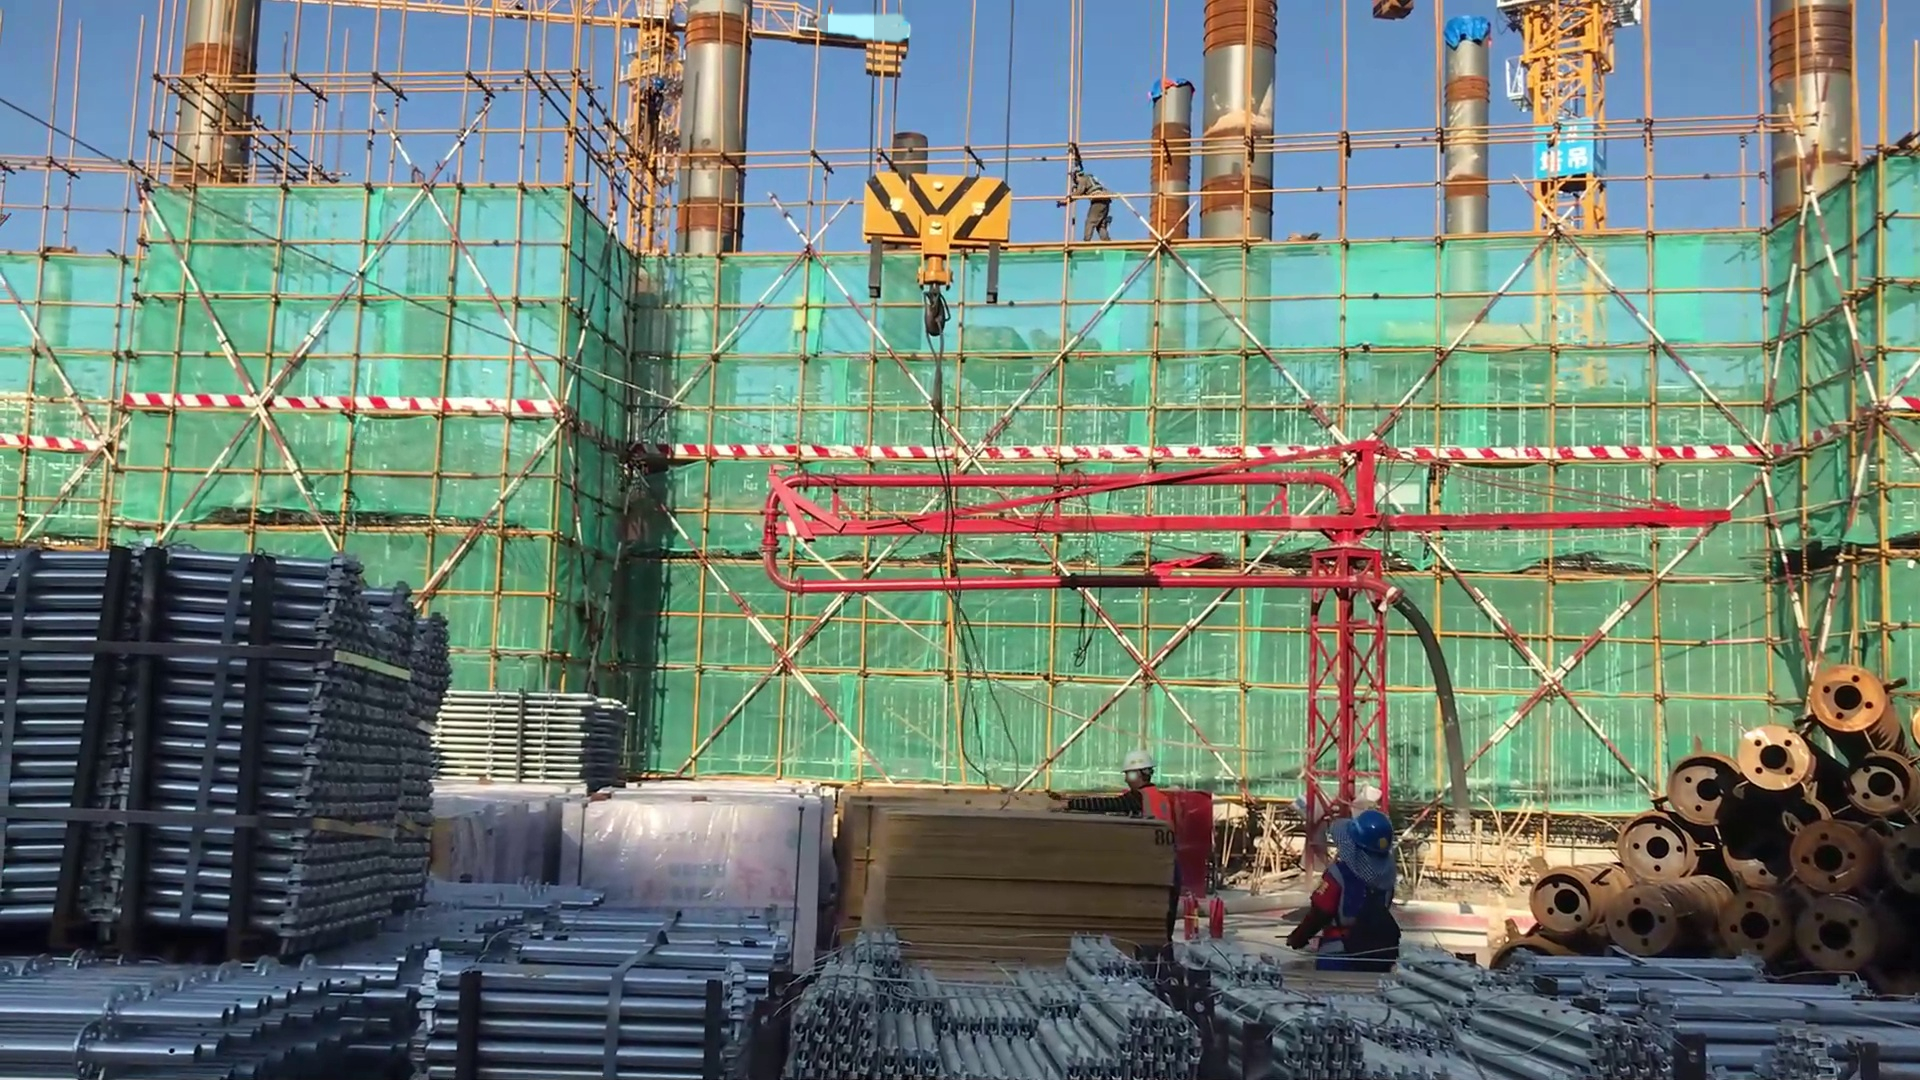board: (840, 779, 1172, 968)
helmet: (1337, 804, 1402, 859), (1115, 753, 1159, 773)
hook: (863, 169, 1037, 353)
person: (1049, 753, 1186, 942), (1281, 802, 1417, 972), (1052, 139, 1117, 260)
scaffold: (1, 537, 494, 936), (415, 876, 784, 1080), (1, 901, 425, 1078), (777, 916, 1213, 1080), (1462, 952, 1920, 1080), (1187, 935, 1515, 1074), (430, 678, 654, 780)
slogan: (1537, 123, 1598, 188)
vest: (1316, 855, 1400, 968), (1136, 783, 1185, 866), (1085, 173, 1108, 202)
